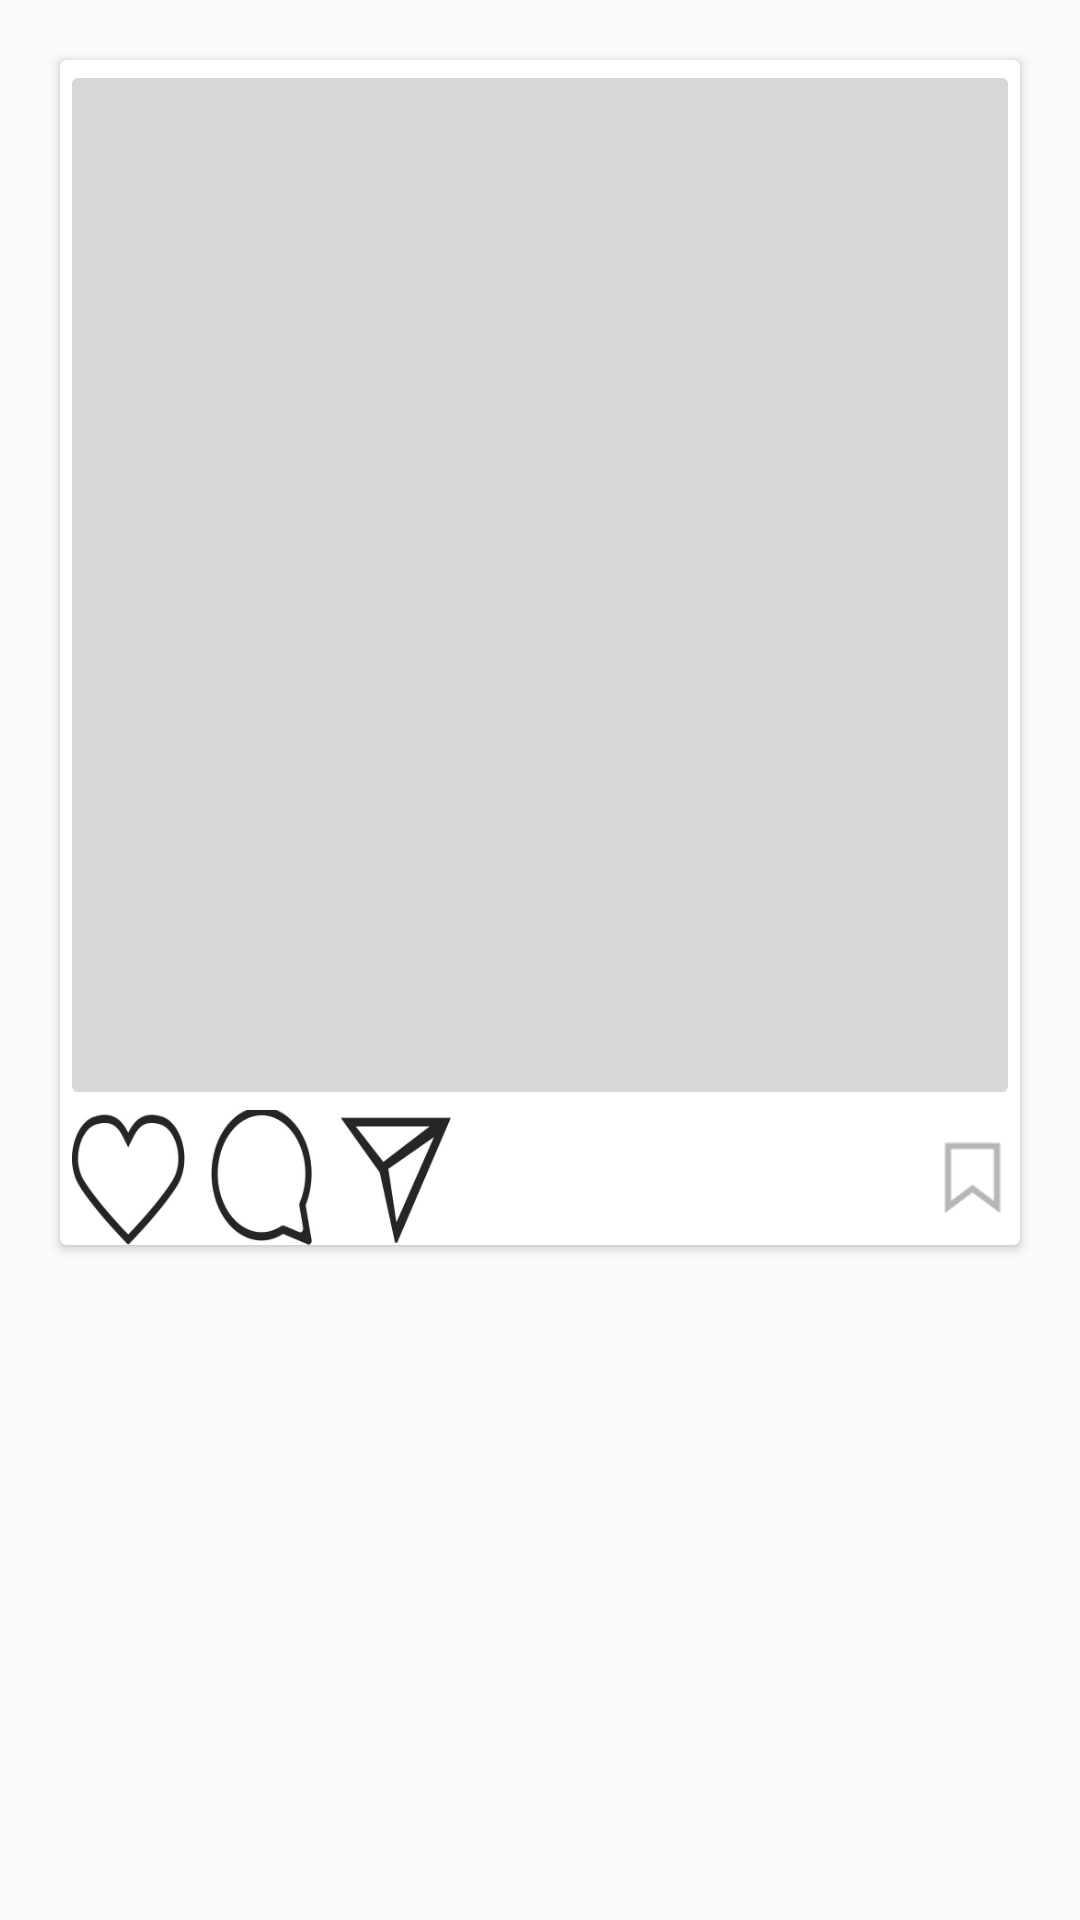

Where to tap for icons on this 1080 × 1920 app screen, as [x,y]:
heart: [128,1179]
save: [972,1178]
send: [396,1180]
